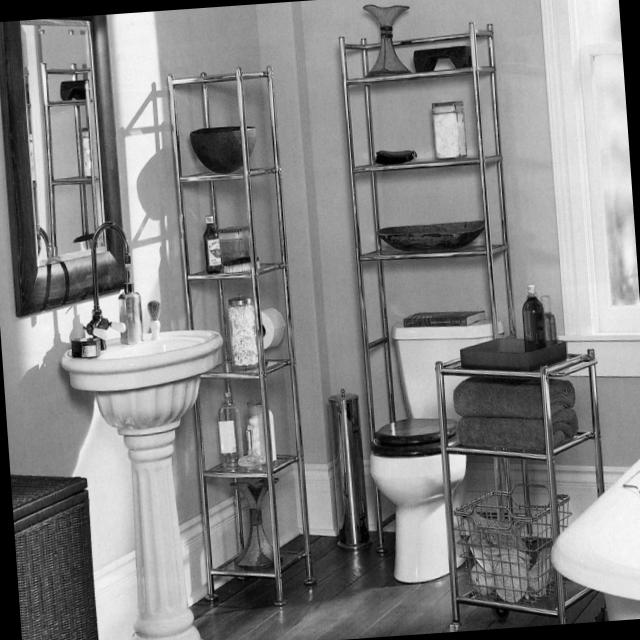2001: (540, 0, 640, 377)
2024: (377, 218, 484, 251)
basket crop: (453, 482, 572, 607)
bathtub: (550, 457, 640, 621)
book case: (401, 308, 485, 327)
bottle crop: (216, 392, 243, 468), (520, 282, 545, 352), (540, 294, 558, 346)
brush: (375, 148, 417, 164), (224, 256, 259, 272)
canister: (326, 386, 372, 550)
decorative bowl: (190, 124, 257, 172)
faucet handle: (82, 219, 131, 349)
floor -X: (136, 533, 605, 640)
glass occluded: (219, 225, 248, 267)
jar: (202, 214, 222, 273)
jar -X: (244, 399, 277, 465), (72, 336, 100, 358)
jar of pens: (433, 99, 468, 157)
laundry basket: (12, 471, 100, 640)
mirror crop: (0, 14, 126, 317)
pedastal sink: (60, 327, 222, 640)
perfume bottle: (239, 428, 266, 471)
qtip canister: (227, 292, 258, 368)
roll: (262, 308, 285, 346)
sculpture -X: (228, 477, 284, 566), (362, 2, 412, 76), (413, 43, 472, 72)
shaving brush: (148, 298, 160, 335)
shelf crop: (172, 67, 312, 603)
soap: (118, 266, 143, 343)
sponges: (463, 507, 553, 605)
storage cart: (434, 347, 604, 630)
storage rack: (337, 20, 535, 555)
toilet bowl: (368, 317, 504, 583)
towels: (452, 377, 578, 451)
tray occluded: (459, 336, 566, 371)
wall clock: (0, 0, 640, 640)
